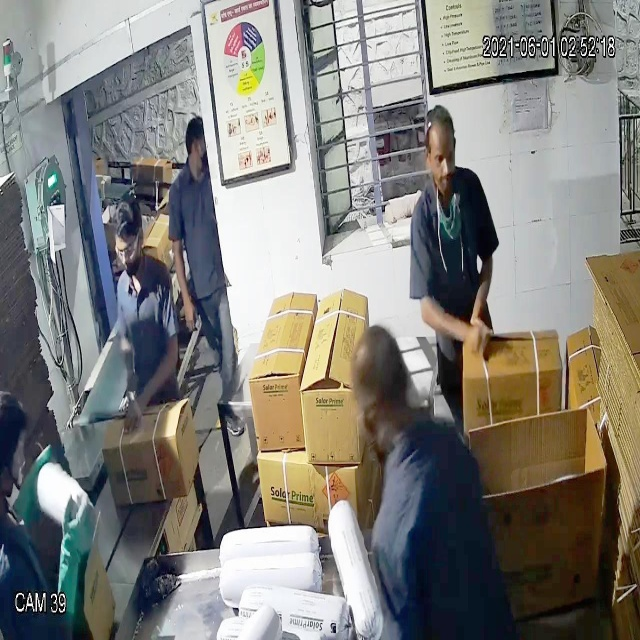Gafas: (106, 230, 150, 268)
Sin_gafas: (420, 142, 459, 174)
